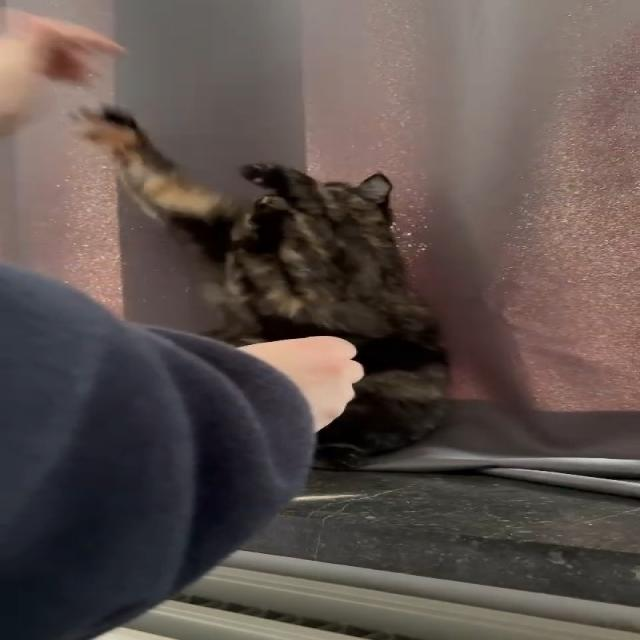authorized: (68, 102, 453, 470)
